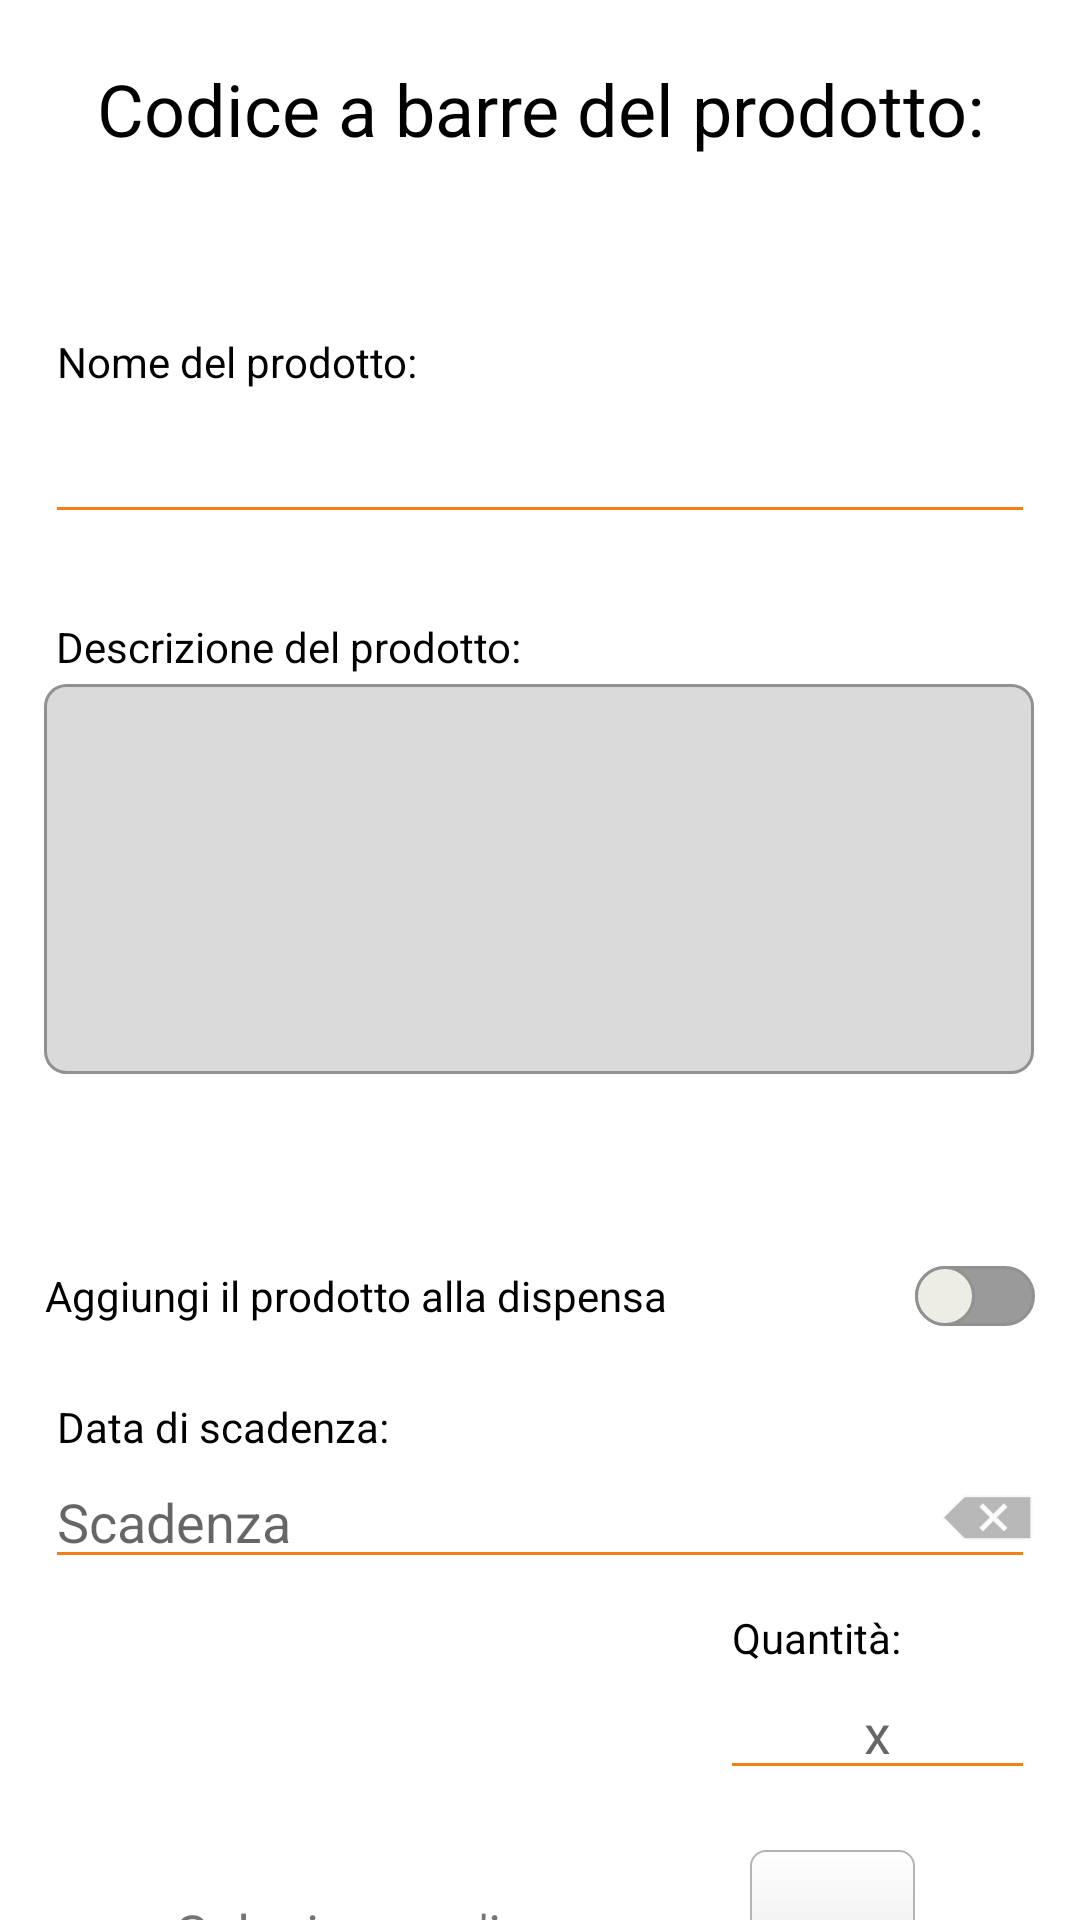

Where icons sit on this 1080px×1920px app screen, as BBox(x1, y1, x2, y2):
Cancella la data: BBox(944, 1497, 1031, 1538)
